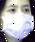with_mask: (1, 1, 35, 42)
